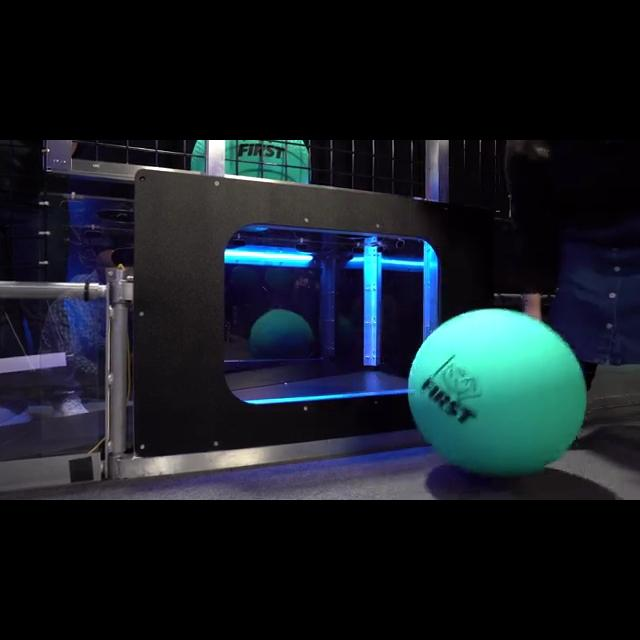ALGAE: (406, 306, 588, 478), (192, 140, 310, 184)
